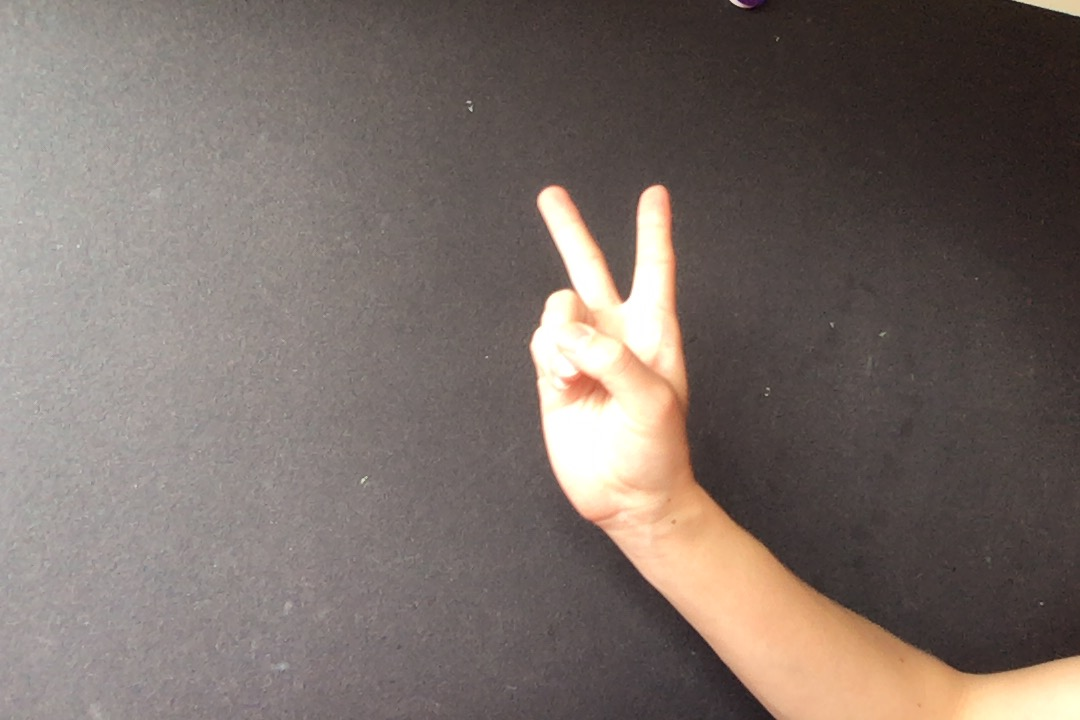peacesign: (517, 176, 696, 530)
